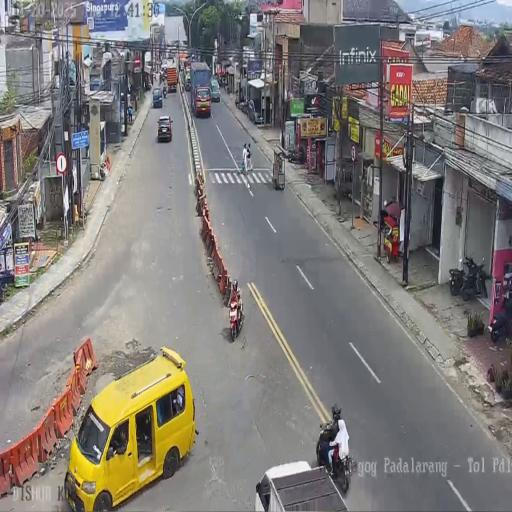car: (66, 350, 196, 508), (157, 114, 173, 142), (210, 78, 220, 102), (152, 88, 163, 108), (184, 68, 191, 91)
motorcycle: (459, 253, 488, 300), (489, 297, 511, 342), (229, 294, 244, 340), (449, 268, 464, 295), (286, 142, 303, 164), (239, 98, 249, 114), (162, 82, 167, 98)
truck: (190, 61, 213, 117), (166, 64, 178, 93), (178, 52, 188, 69)
